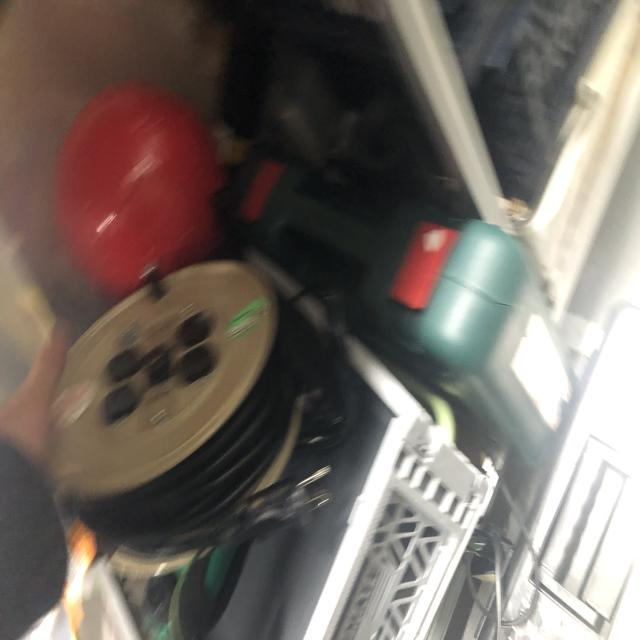red_ball: (54, 87, 214, 294)
